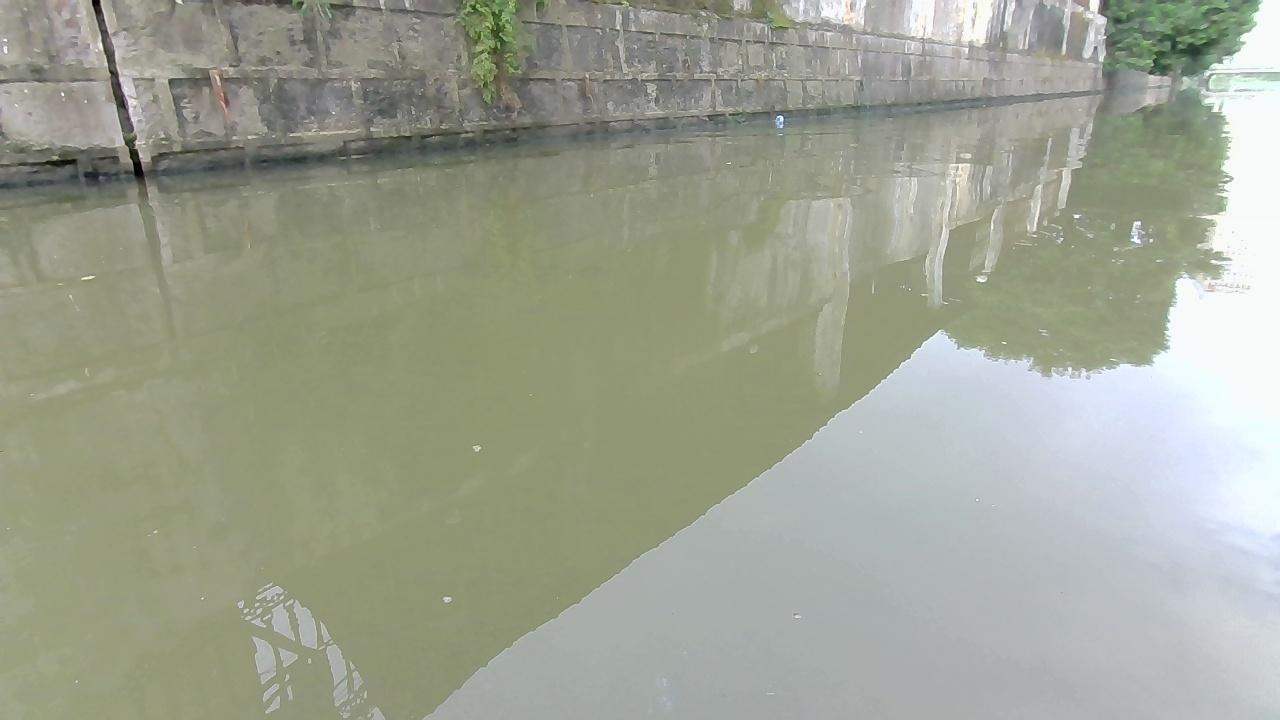bottle: (774, 112, 785, 127)
